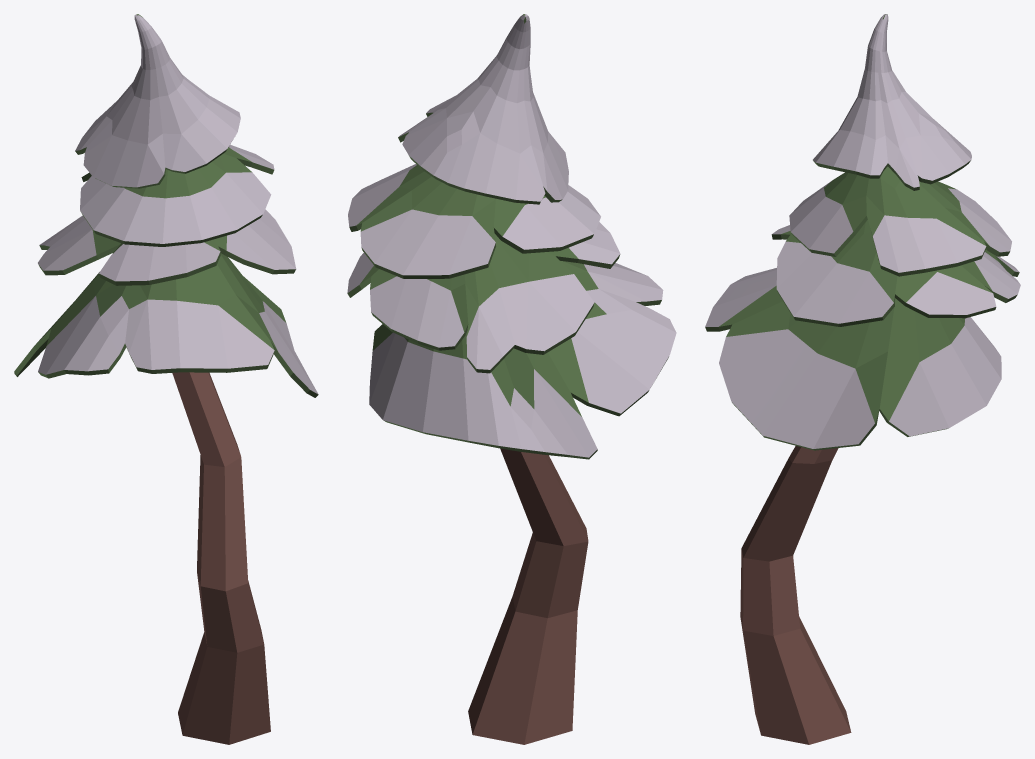
File: pinetree_snow_4.glb
The picture shows the model from 3 angles, left to right: view 1: azimuth 30°, elevation 25°; view 2: azimuth 150°, elevation 25°; view 3: azimuth 270°, elevation 25°; orthographic projection. The views are drawn at different scales.
Parts seen in each view (by area): view 1: PineTree_Snow_4; view 2: PineTree_Snow_4; view 3: PineTree_Snow_4.
Boxes of the visible parts, x1,y1,x2,y2 form: PineTree_Snow_4: [14, 14, 318, 744]; PineTree_Snow_4: [347, 14, 676, 744]; PineTree_Snow_4: [705, 14, 1020, 744].
Bounding box in the file's own units: 1.25 × 3.34 × 1.39.
